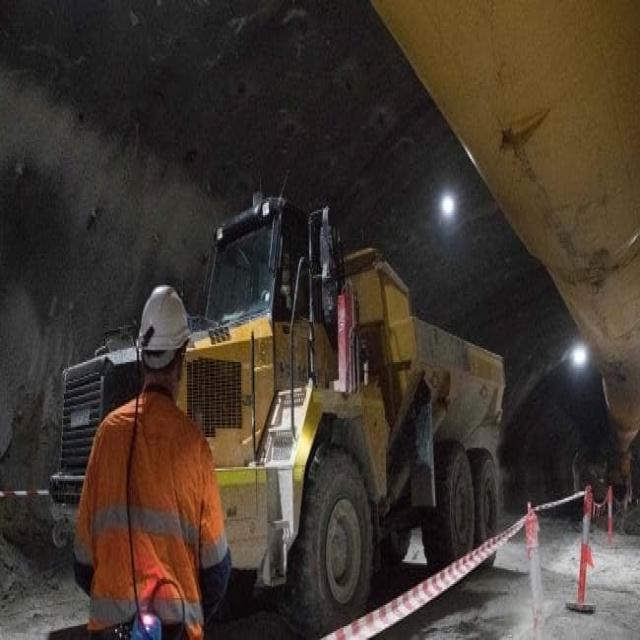helmet: (135, 380, 190, 528)
vest: (85, 533, 220, 640)
